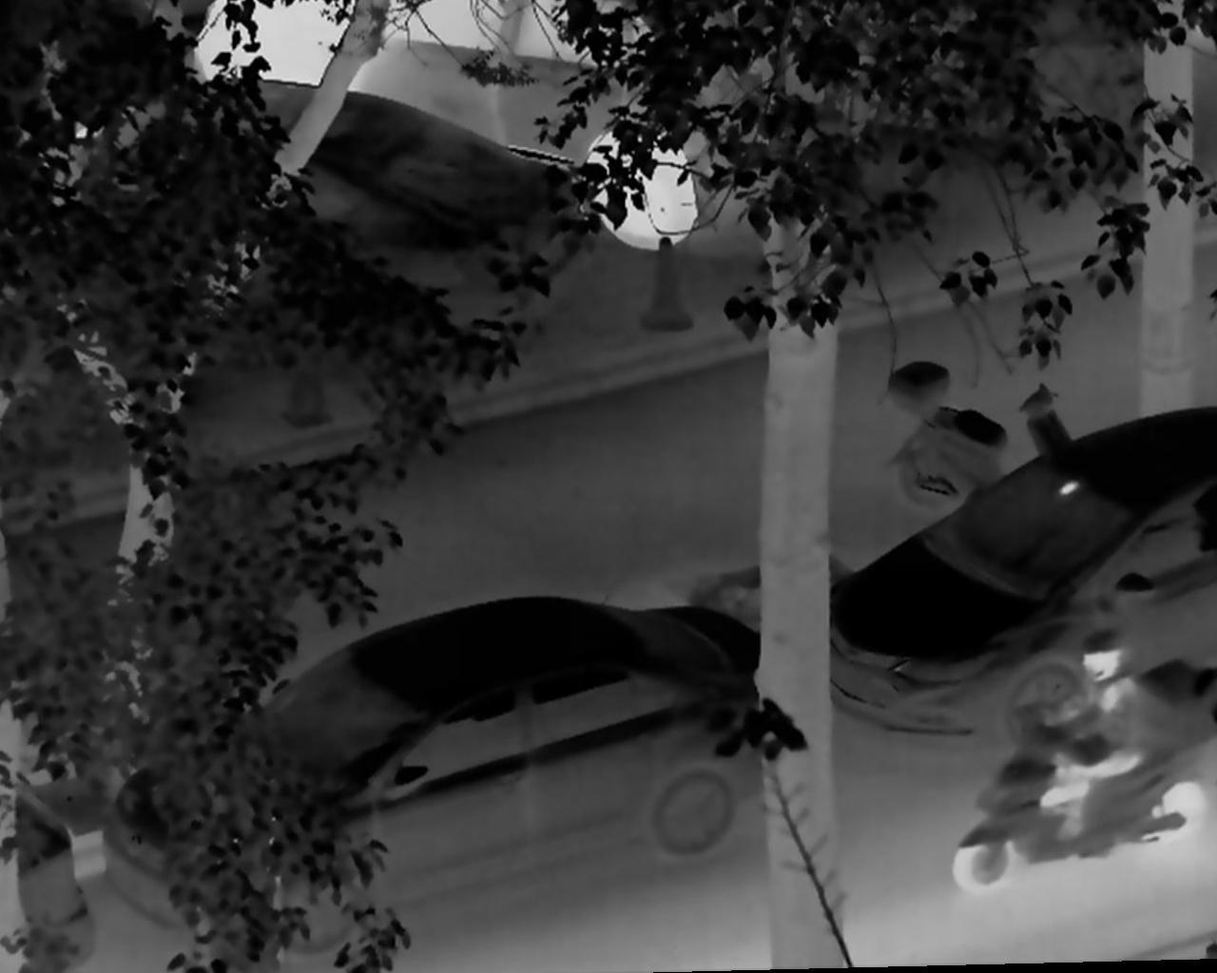person: (1024, 625, 1151, 848)
